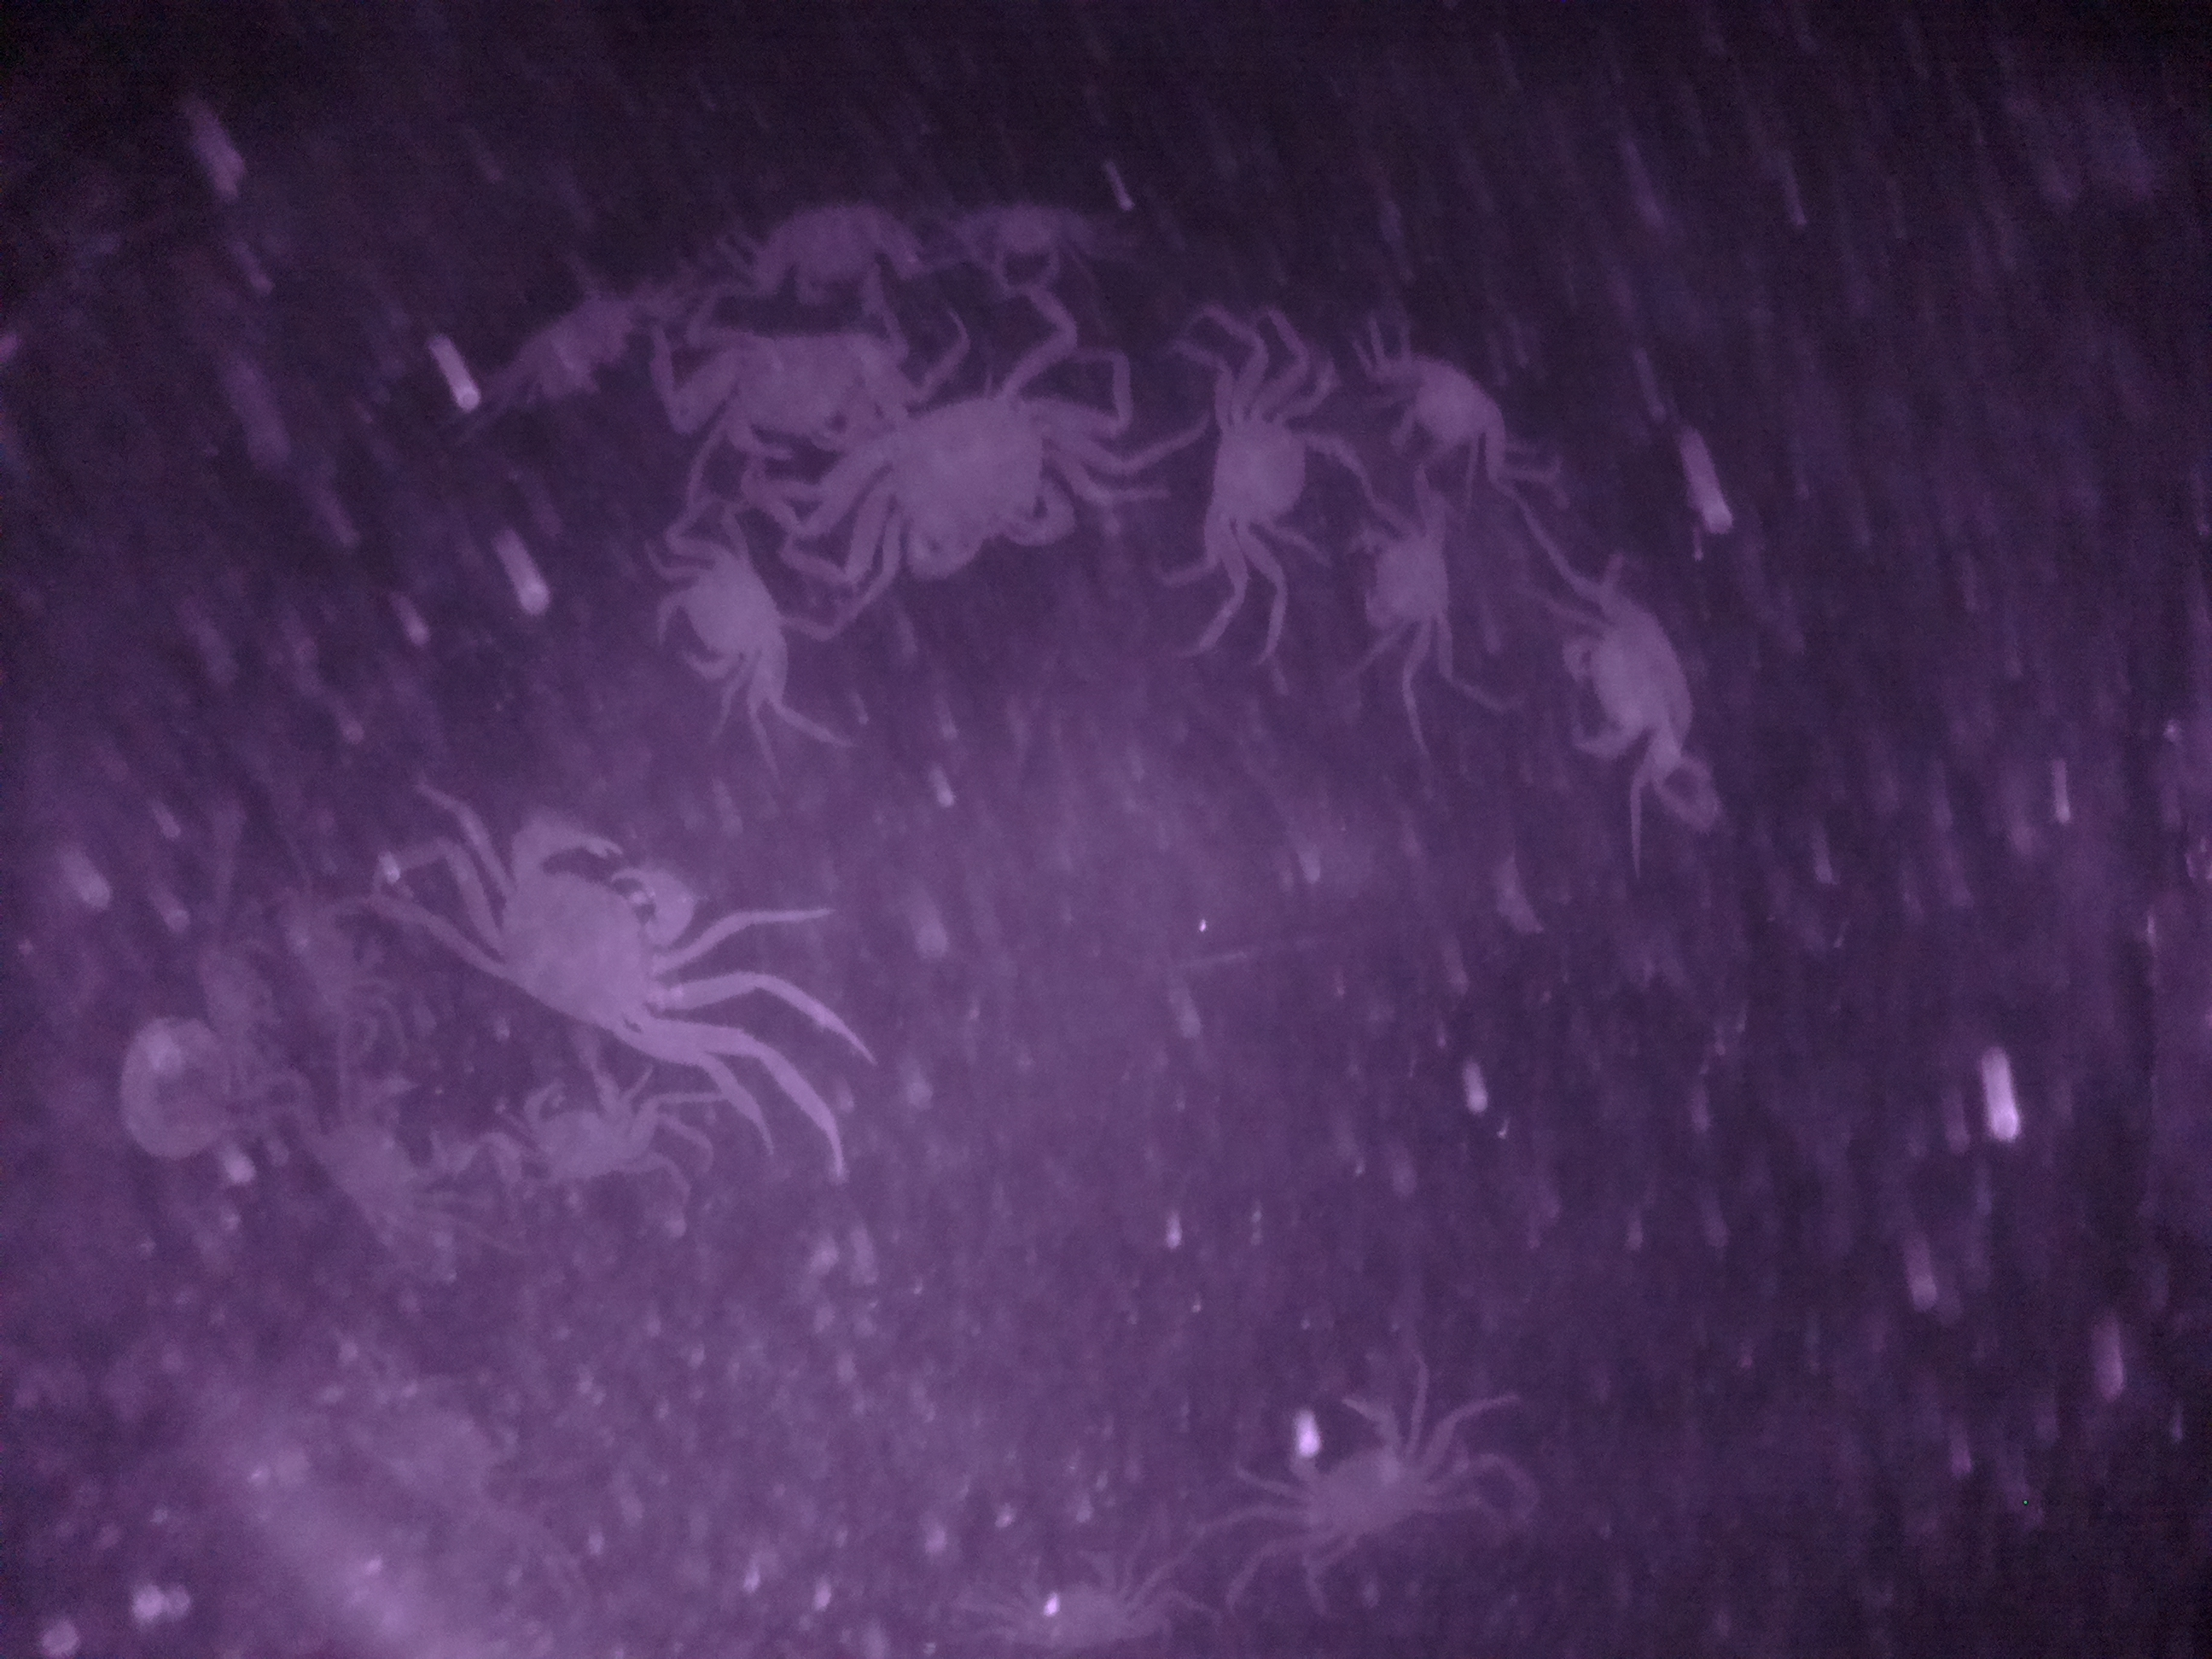Crab: (460, 805, 728, 1065), (850, 369, 1106, 591), (1256, 1377, 1440, 1579), (1541, 598, 1712, 772), (1183, 387, 1350, 556), (648, 532, 799, 708), (491, 1063, 681, 1185), (1329, 511, 1475, 659)
